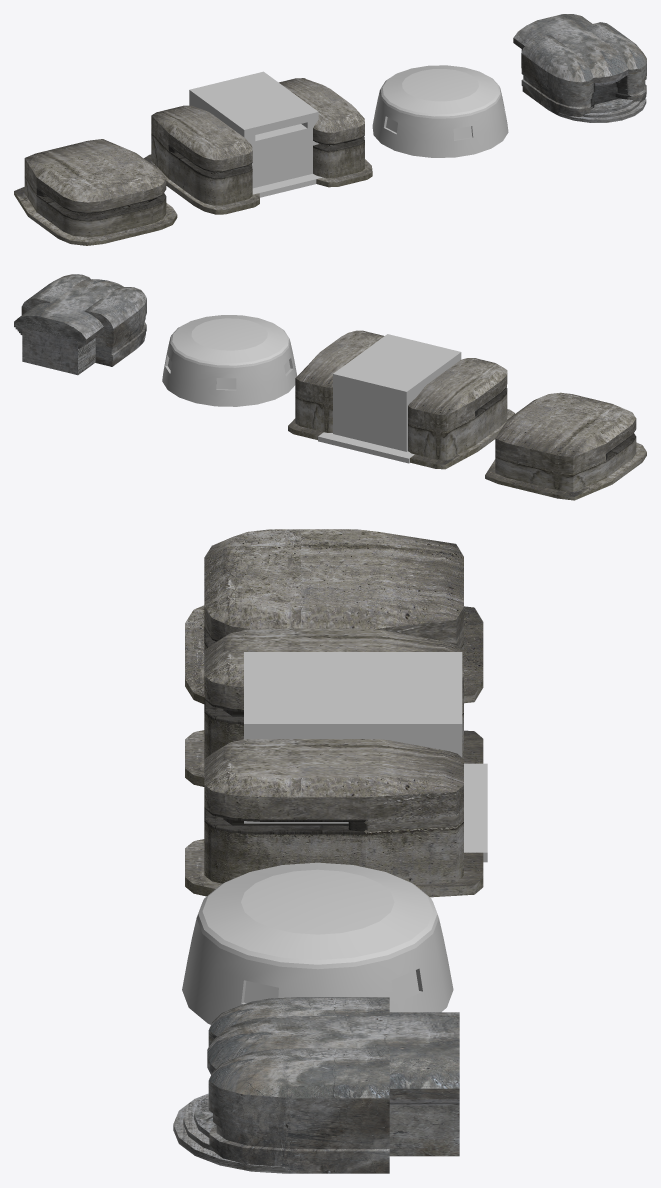
File: bunker.fbx
3 renders of one model, top to bottom at view 1: azimuth 30°, elevation 25°; view 2: azimuth 150°, elevation 25°; view 3: azimuth 270°, elevation 25°, orthographic. The views are drawn at different scales.
Parts seen in each view (by area): view 1: polySurface3, pCube1, polySurface4, pSphere4; view 2: polySurface3, pCube1, pSphere4, polySurface4; view 3: polySurface3, polySurface4, pSphere4, pCube1.
Boxes of the visible parts, x1,y1,x2,y2 form: polySurface3: (144, 71, 372, 214); pCube1: (14, 139, 177, 245); polySurface4: (513, 14, 646, 122); pSphere4: (372, 65, 508, 157); polySurface3: (288, 330, 514, 469); pCube1: (485, 392, 646, 500); pSphere4: (162, 315, 297, 406); polySurface4: (14, 274, 146, 375); polySurface3: (185, 628, 487, 897); polySurface4: (173, 997, 459, 1173); pSphere4: (182, 862, 453, 1024); pCube1: (185, 529, 483, 703).
Bounding box in the file's own units: 21 × 2.22 × 4.88.
